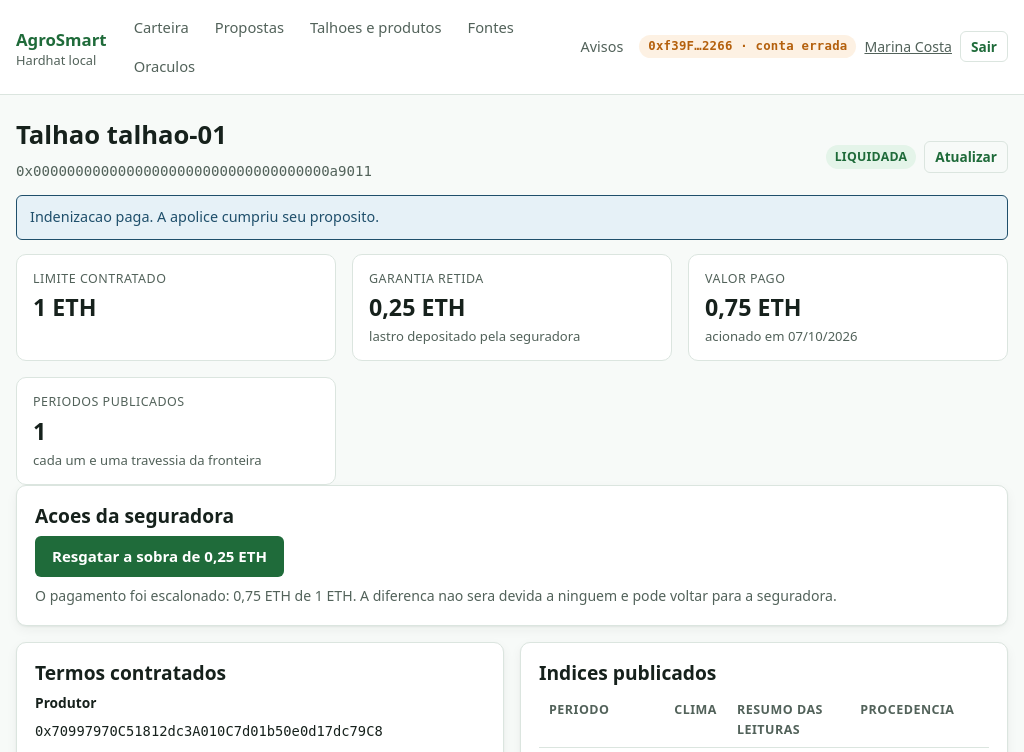
it: detalhe da apolice › liquidada no modo escalonado: a seguradora resgata a sobra
Click the button "Resgatar a sobra de 0,25 ETH".
click(159, 556)  # box 35,536 -> 284,577
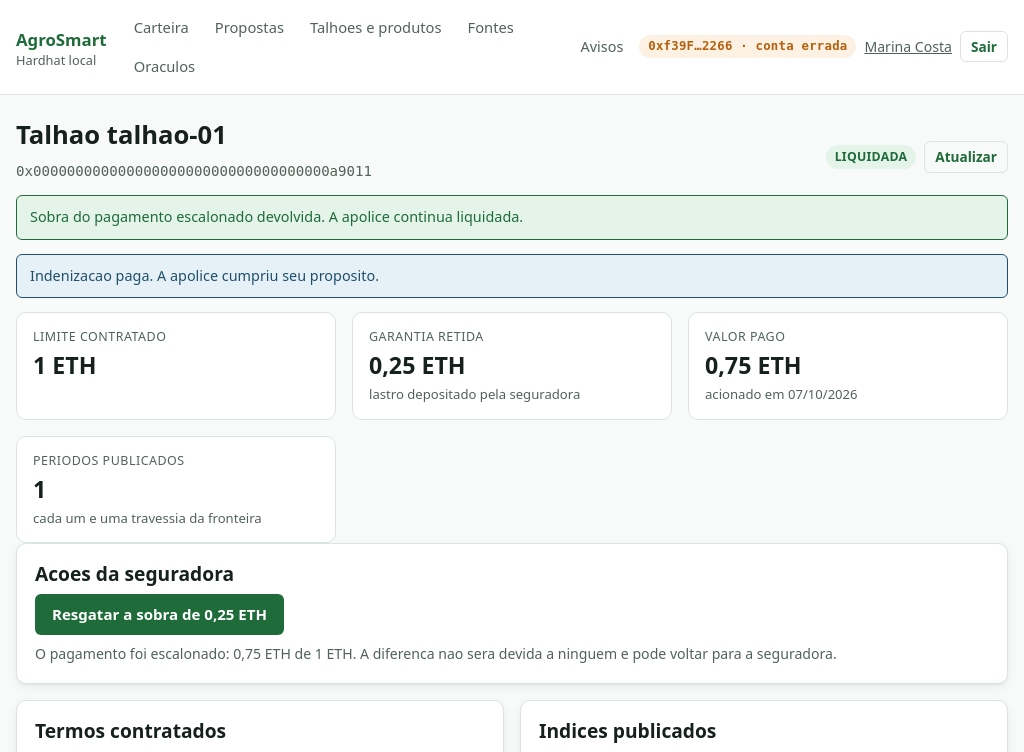
Check: the text "Sobra do pagamento escalonado devolvida. A apolice continua liquidada." is shown, box 16,195 -> 1008,240
